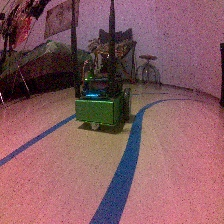rob: (73, 56, 132, 132)
